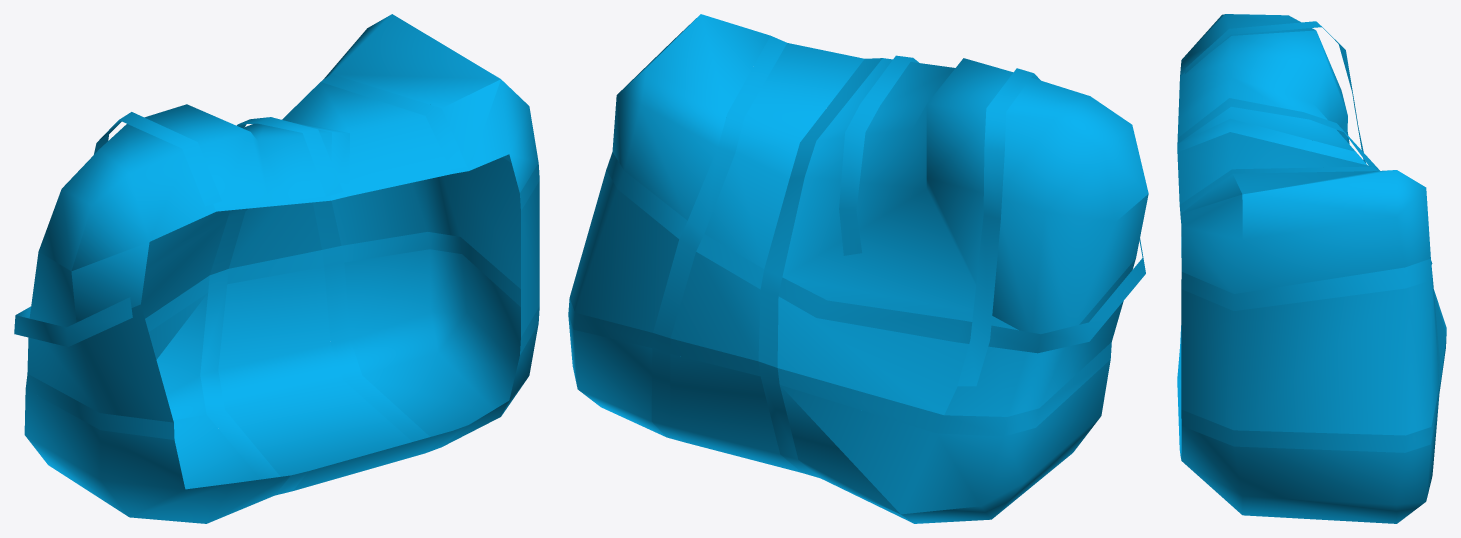
The model's file is CargoBagC.FBX.
The picture shows the model from 3 angles, left to right: view 1: azimuth 30°, elevation 25°; view 2: azimuth 150°, elevation 25°; view 3: azimuth 270°, elevation 25°; orthographic projection. The views are drawn at different scales.
Parts seen in each view (by area): view 1: CargoBagC; view 2: CargoBagC; view 3: CargoBagC.
Part boxes in pixels (bbox=[...]): CargoBagC: bbox=[14, 14, 539, 523]; CargoBagC: bbox=[568, 14, 1148, 523]; CargoBagC: bbox=[1177, 14, 1446, 523].
Size of the model in its own units: 0.5068 by 0.3887 by 0.256.
Materials: 1 (1 with a texture image).
